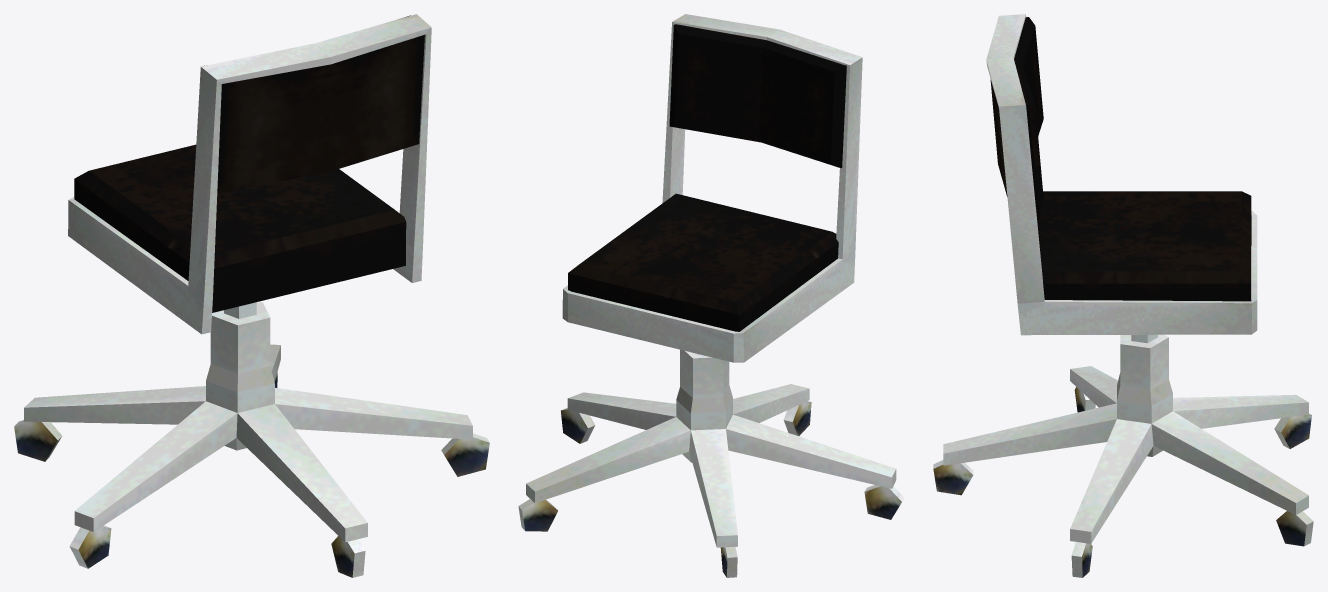
The model's file is office_chair_black.obj.
3 views of the same model, side by side, from view 1: azimuth 30°, elevation 25°; view 2: azimuth 150°, elevation 25°; view 3: azimuth 270°, elevation 25° (orthographic). The views are drawn at different scales.
Visible parts, largest first — view 1: office_chair_black; view 2: office_chair_black; view 3: office_chair_black.
Boxes of the visible parts, bbox=[...] form: office_chair_black: bbox=[14, 14, 489, 577]; office_chair_black: bbox=[518, 14, 904, 577]; office_chair_black: bbox=[933, 14, 1313, 577].
Bounding box in the file's own units: 0.94 × 1.1 × 0.8617.
